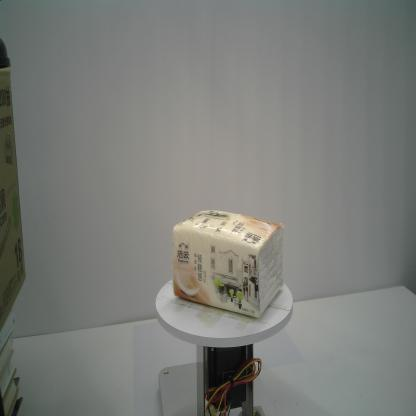Tissue: (172, 209, 285, 319)
